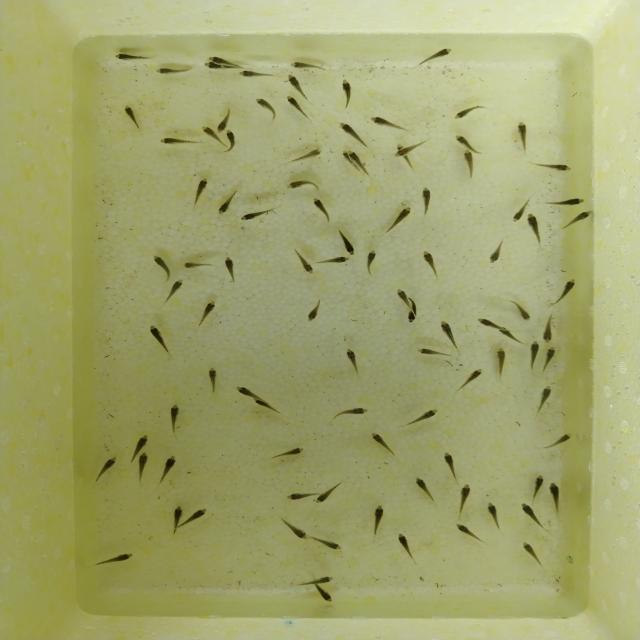fingerling: (381, 205, 416, 236), (146, 322, 172, 362), (413, 45, 458, 68), (367, 112, 410, 136), (531, 381, 558, 419), (451, 480, 476, 521), (389, 528, 421, 560), (238, 203, 282, 226), (367, 430, 403, 458), (92, 452, 121, 486), (534, 430, 578, 452), (556, 208, 596, 232), (327, 402, 375, 421), (276, 174, 326, 192), (551, 275, 581, 305), (455, 366, 485, 396), (517, 501, 546, 532), (525, 211, 548, 249), (404, 406, 442, 429), (308, 194, 336, 225), (411, 473, 439, 504), (94, 550, 135, 571), (156, 453, 182, 486), (524, 159, 574, 176), (284, 146, 324, 167), (484, 236, 511, 267), (164, 401, 186, 439), (334, 119, 366, 145), (335, 75, 358, 111), (269, 444, 312, 463), (192, 299, 222, 326), (419, 247, 444, 279), (110, 48, 154, 66), (218, 254, 244, 284), (451, 104, 488, 125), (452, 521, 484, 545), (279, 518, 311, 542), (513, 117, 533, 155), (121, 103, 146, 133), (214, 188, 238, 219), (482, 499, 506, 530), (189, 175, 212, 207), (341, 346, 364, 378), (368, 502, 389, 537), (310, 532, 345, 553), (520, 540, 546, 568), (153, 134, 204, 148), (252, 96, 279, 122), (506, 297, 534, 322), (293, 246, 316, 276), (202, 365, 224, 396), (416, 185, 436, 219), (542, 194, 590, 208), (546, 479, 564, 516), (150, 250, 172, 280), (492, 344, 511, 378), (302, 296, 325, 324), (286, 57, 328, 72), (314, 483, 344, 504), (151, 65, 195, 79), (337, 228, 359, 256), (362, 246, 381, 278), (251, 397, 283, 416), (441, 448, 460, 480), (412, 346, 456, 359), (541, 314, 560, 344), (459, 148, 476, 181), (528, 469, 545, 502), (284, 70, 309, 92), (314, 254, 353, 268), (438, 319, 459, 345), (541, 345, 561, 372), (499, 326, 526, 346), (180, 258, 217, 272), (237, 68, 276, 81), (285, 94, 304, 120), (137, 450, 151, 485), (299, 574, 335, 586), (284, 489, 314, 503), (527, 338, 540, 370), (165, 278, 188, 296), (187, 505, 210, 522), (314, 588, 337, 605), (450, 134, 476, 149), (474, 314, 498, 330), (134, 432, 152, 452), (223, 129, 237, 154), (393, 287, 410, 307), (232, 384, 256, 398), (170, 502, 185, 522), (509, 208, 526, 224), (406, 308, 420, 326), (206, 53, 230, 63), (392, 147, 412, 159), (346, 149, 362, 162), (215, 121, 228, 134), (200, 123, 212, 137), (201, 62, 214, 71)
